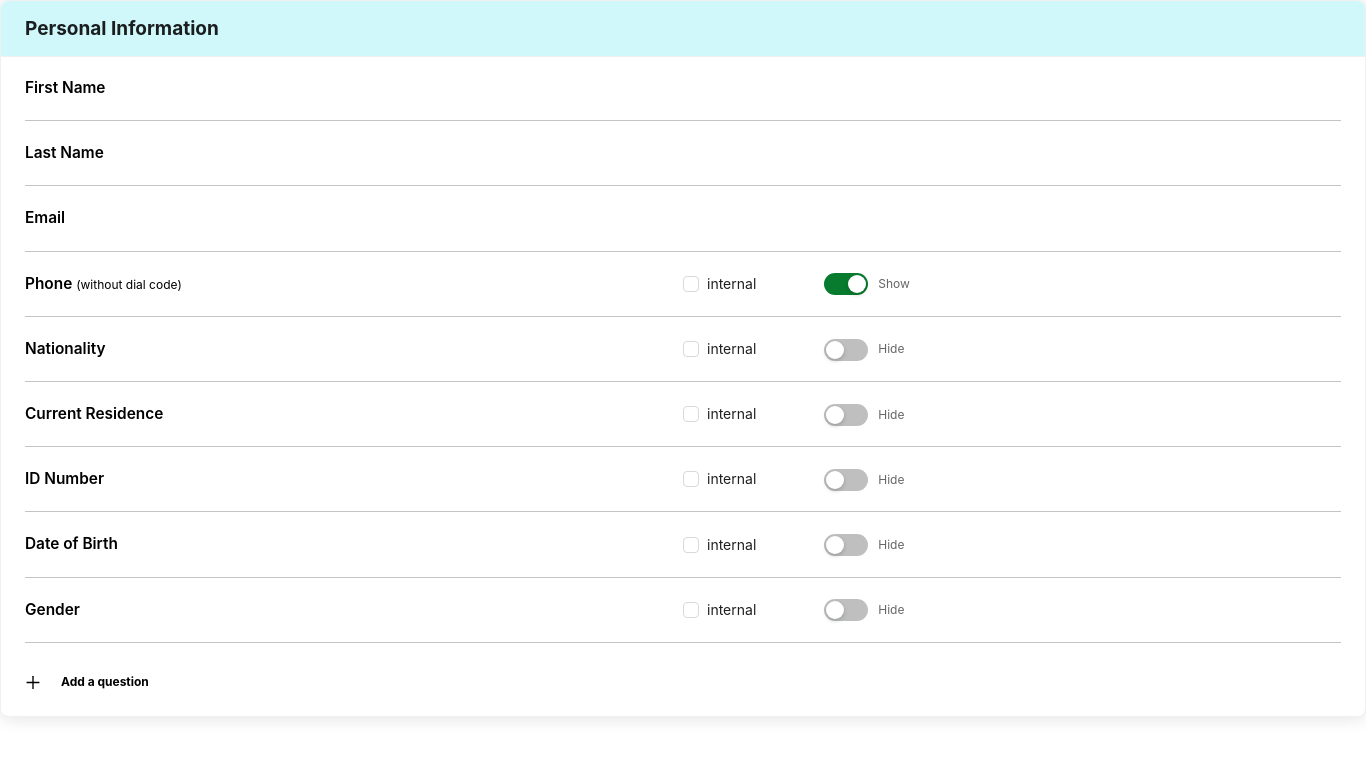
Test: Personal Information › Display Question › should show if the question modal is in the document after add question button is clicked
Click the element with test id "addQuestion".
click(87, 682)  # box [25,670,149,695]
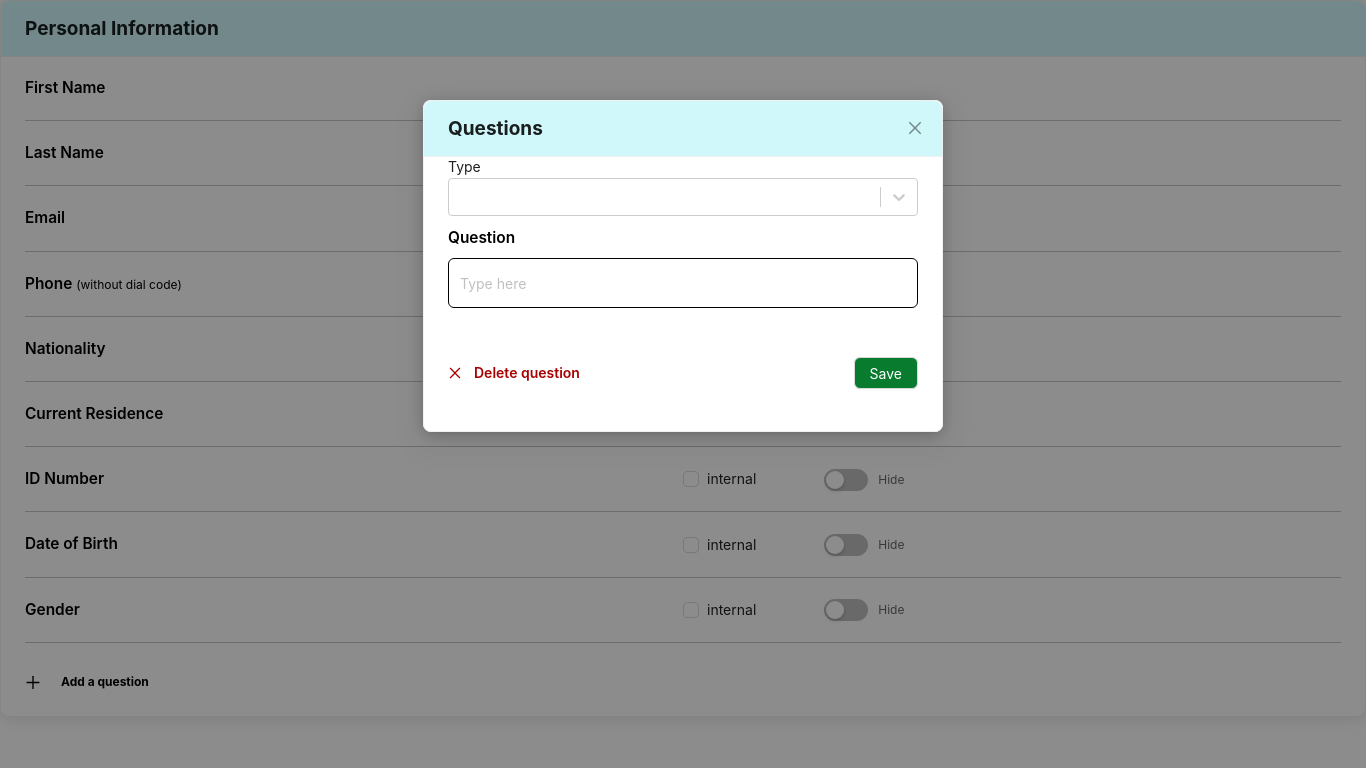
Check: the text "Questions" is shown, box [448,117,543,140]
